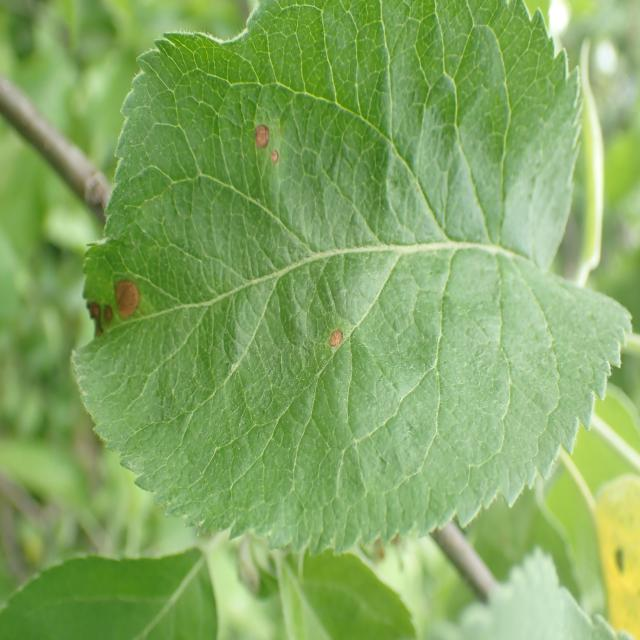Black Rot: (80, 251, 147, 361), (244, 94, 286, 178), (320, 319, 356, 366)
